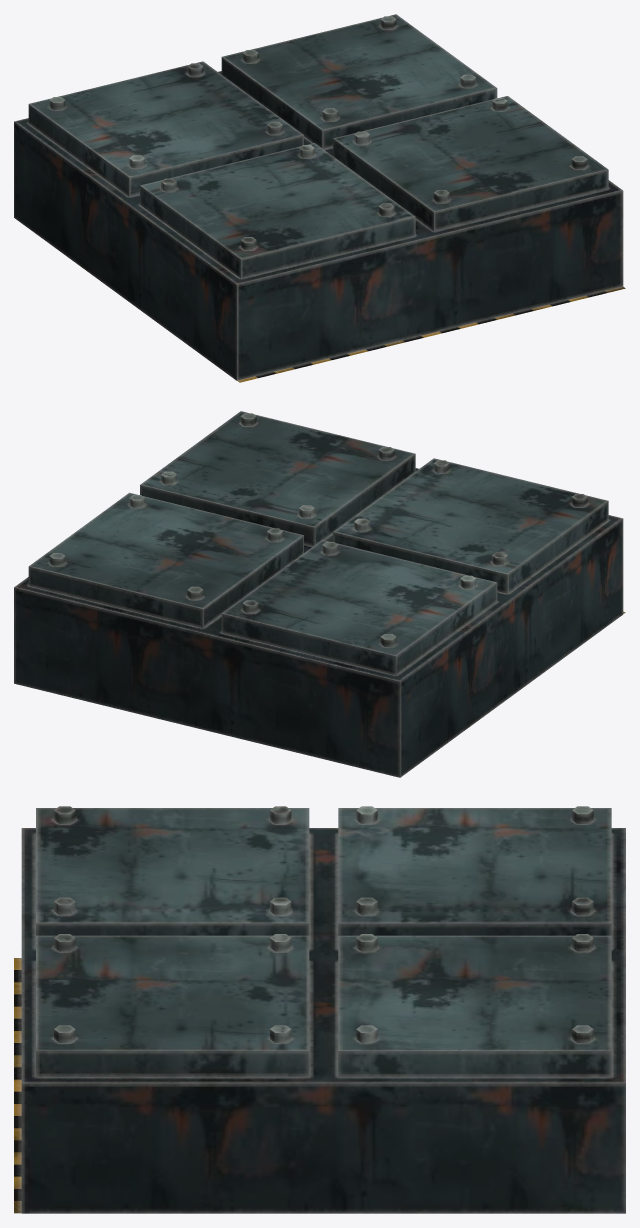
Rendered from armor_plating.glb.
3 views of the same model, one above another, from view 1: azimuth 30°, elevation 25°; view 2: azimuth 150°, elevation 25°; view 3: azimuth 270°, elevation 25° (orthographic). The views are drawn at different scales.
Parts seen in each view (by area): view 1: te_armor_plating; view 2: te_armor_plating; view 3: te_armor_plating.
Part boxes in pixels (x1,y1,x2,y2): te_armor_plating: (14,14,625,382); te_armor_plating: (14,411,625,777); te_armor_plating: (14,806,625,1213).
Bounding box in the file's own units: 0.84 × 0.255 × 0.8506.
Materials: 1 (1 with a texture image).
